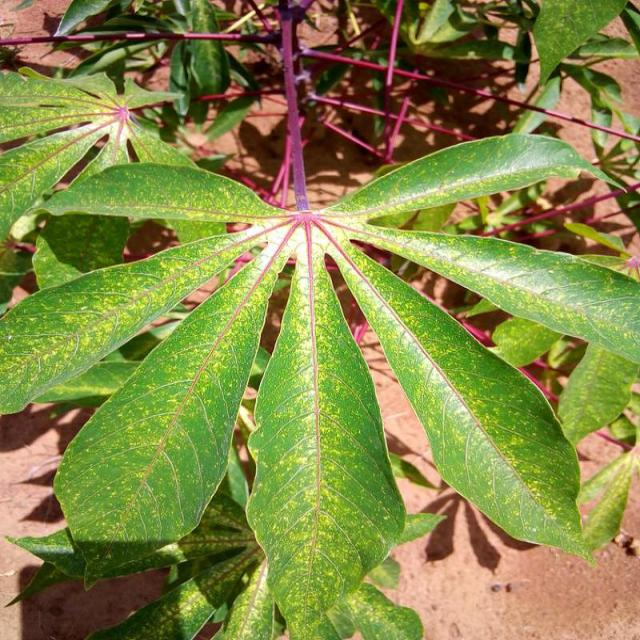cassava leaf: (2, 2, 639, 637), (330, 233, 598, 566), (52, 230, 293, 580), (245, 241, 408, 637)
